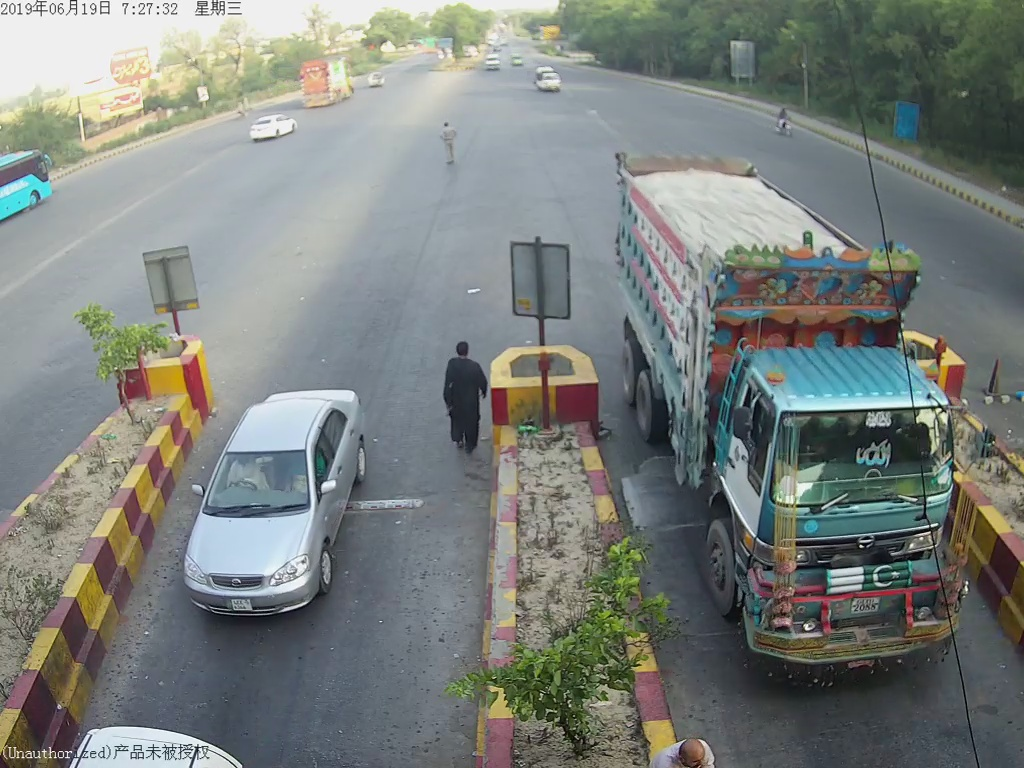Cat-1: (181, 388, 374, 636)
Cat-4: (610, 152, 972, 681)
